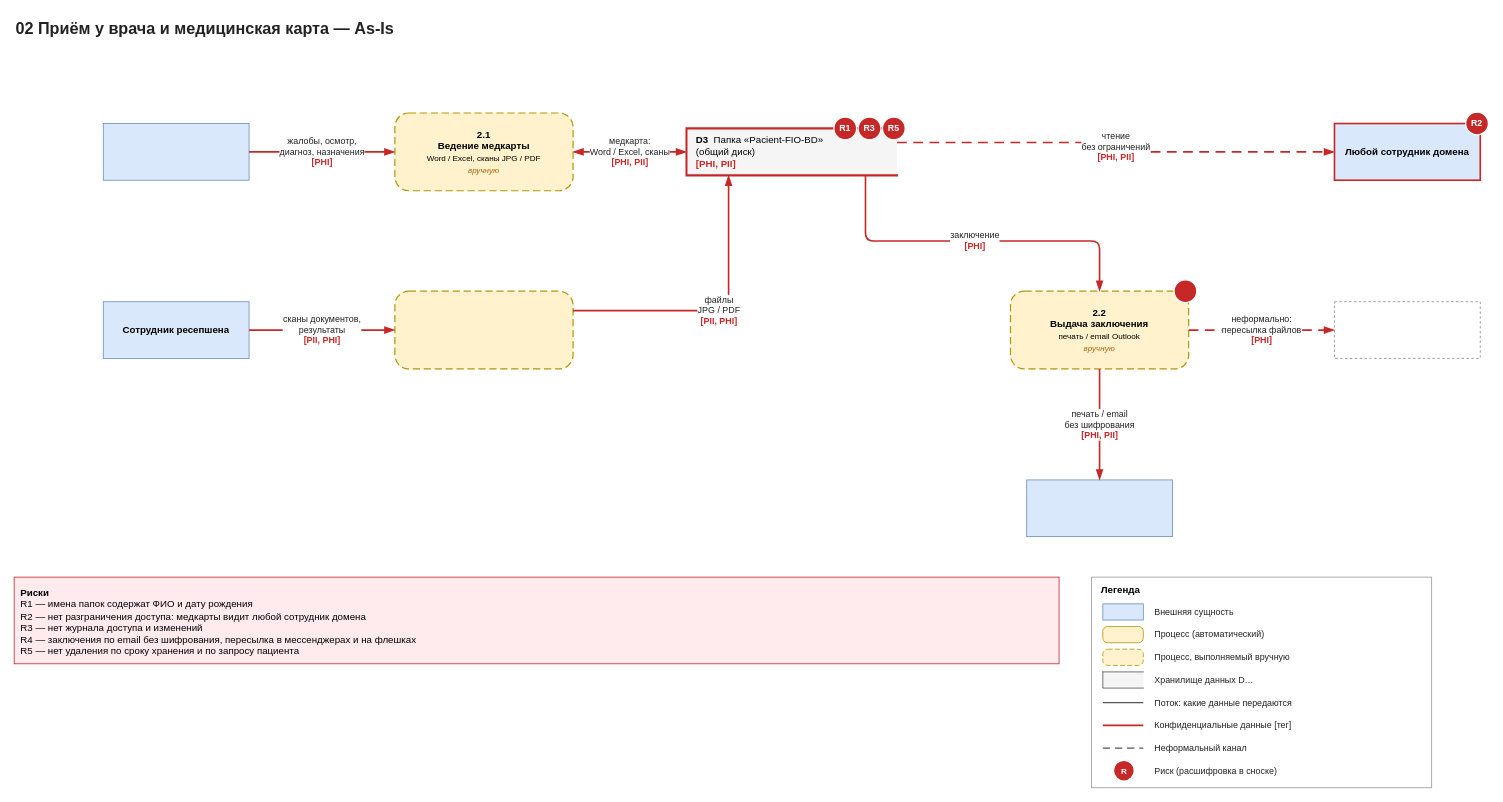
The diagram is 1503 pixels wide and 802 high, and some of its shapes have lost their labels. The shapes that lost their labels are listed below. From the top down, each one's centre as x and y in pixels, then its label:
the point at 175,151: Врач
the point at 1185,291: R4
the point at 483,329: 2.3 Размещение файлов пациента ресепшен вручную
the point at 1407,329: Мессенджеры, флешки неформальный канал
the point at 1099,508: Пациент
